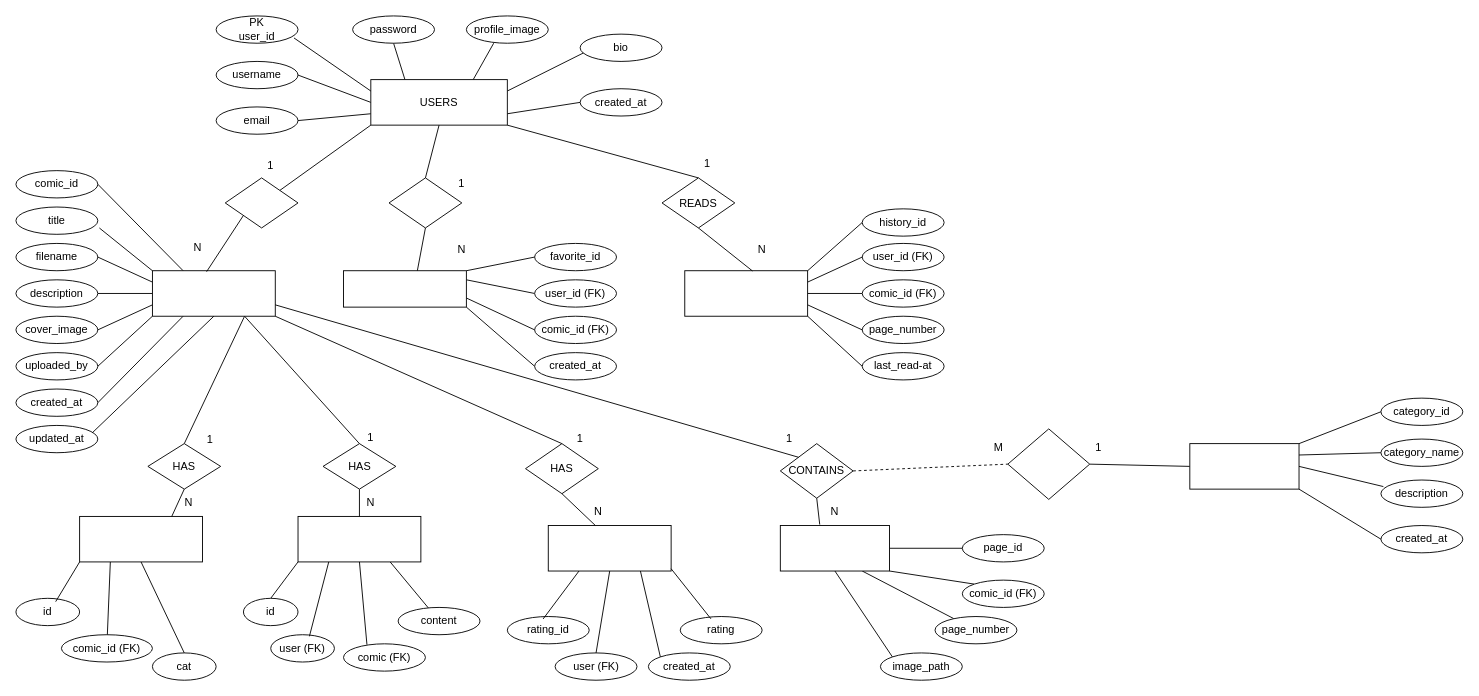
Image size: 1479x696. Some labels were removed from this diagram. Each missing label, with the box of its shape:
BELONGS_TO: (1007, 428, 1090, 499)
CATEGORY: (1189, 443, 1299, 489)
COMIC_CATEGORIES: (79, 516, 202, 562)
COMICS: (152, 270, 275, 316)
COMMENTS: (297, 516, 421, 562)
FAVORITES: (388, 177, 462, 228)
PAGES: (779, 525, 890, 571)
RATINGS: (547, 525, 671, 571)
READING_HISTORY: (684, 270, 808, 316)
UPLOADS: (224, 177, 298, 228)
USER_FAVORITES: (343, 270, 466, 307)
